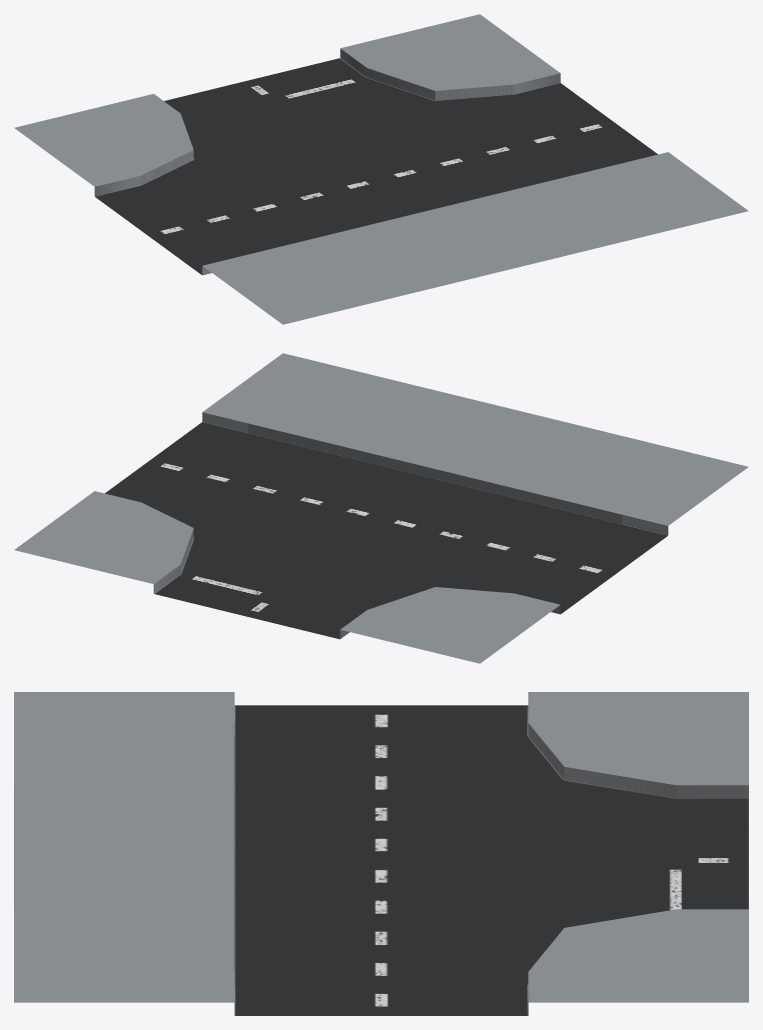
The model's file is Road_T-Section.fbx.
3 views of the same model, one above another, from view 1: azimuth 30°, elevation 25°; view 2: azimuth 150°, elevation 25°; view 3: azimuth 270°, elevation 25° (orthographic). The views are drawn at different scales.
Visible parts, largest first — view 1: Road_T; view 2: Road_T; view 3: Road_T.
Boxes of the visible parts, left/top/right/bottom form: Road_T: left=14, top=14, right=748, bottom=324; Road_T: left=14, top=353, right=748, bottom=663; Road_T: left=14, top=692, right=748, bottom=1015.
Bounding box in the file's own units: 10 × 0.2 × 10.
